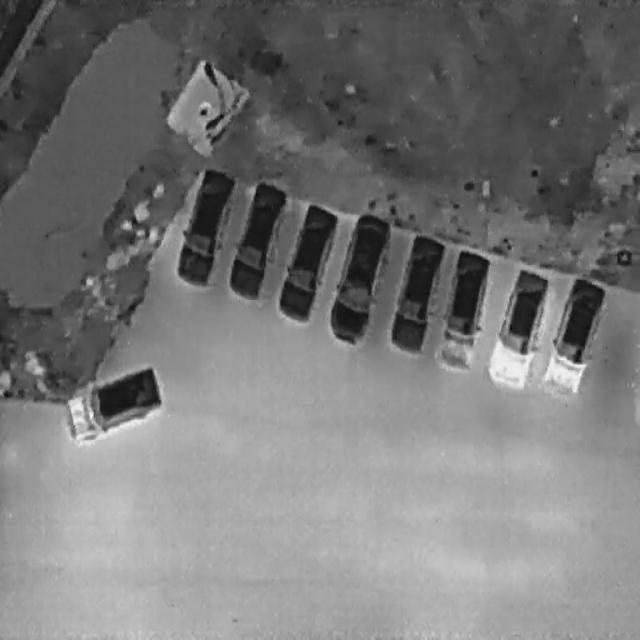Car: (322, 205, 396, 350), (167, 155, 243, 296), (57, 355, 169, 449), (272, 191, 346, 329), (482, 257, 556, 395), (537, 268, 612, 400), (219, 172, 290, 308), (379, 226, 449, 362), (430, 242, 495, 376)
